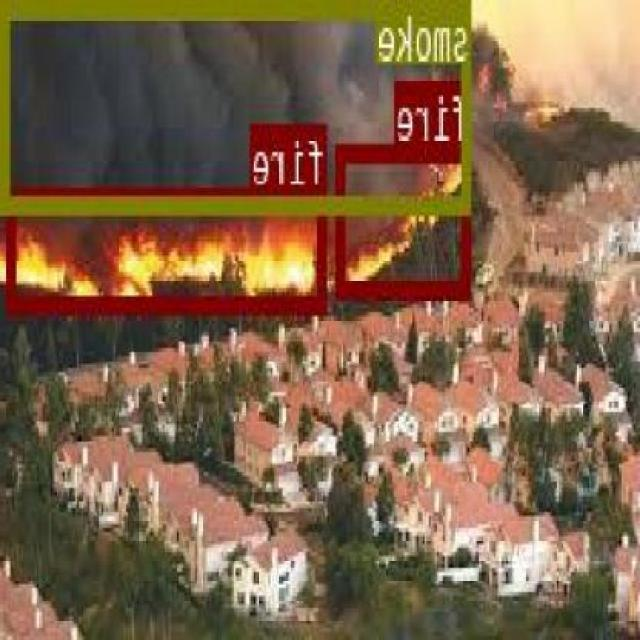Fire: (9, 184, 328, 310), (338, 142, 472, 296)
Smoke: (4, 0, 472, 208)
